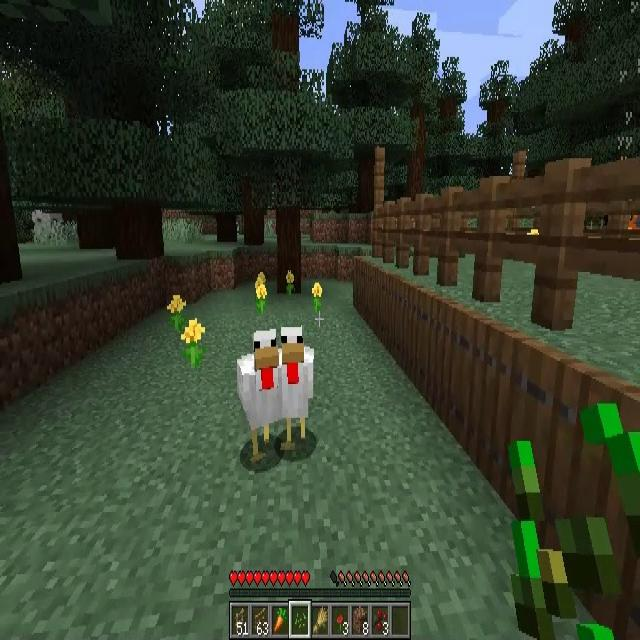duck: (237, 331, 282, 458), (280, 327, 314, 452)
flower: (180, 319, 206, 369), (168, 294, 186, 330), (255, 272, 267, 315), (312, 282, 323, 312), (286, 270, 294, 294)
